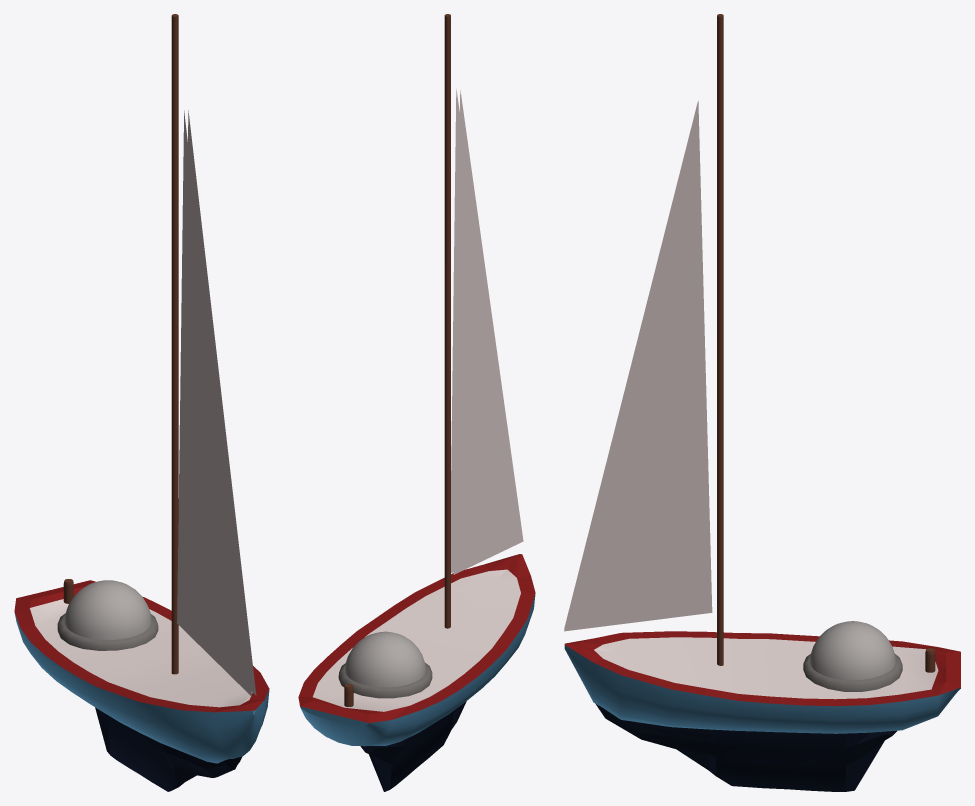
The model's file is ship.FBX.
3 views of the same model, side by side, from view 1: azimuth 30°, elevation 25°; view 2: azimuth 150°, elevation 25°; view 3: azimuth 270°, elevation 25° (orthographic). The views are drawn at different scales.
Parts seen in each view (by area): view 1: Boat, CockpitCap, CockpitBase; view 2: Boat, CockpitCap, CockpitBase; view 3: Boat, CockpitCap, CockpitBase.
Boxes of the visible parts, x1,y1,x2,y2 form: Boat: [14, 14, 269, 791]; CockpitCap: [64, 580, 151, 639]; CockpitBase: [57, 613, 158, 650]; Boat: [298, 14, 535, 791]; CockpitCap: [345, 631, 425, 687]; CockpitBase: [338, 663, 432, 698]; Boat: [564, 14, 960, 791]; CockpitCap: [809, 621, 895, 680]; CockpitBase: [803, 654, 902, 691].
Bounding box in the file's own units: 20.07 × 103 × 47.96.
Materials: 9 (7 with a texture image).
